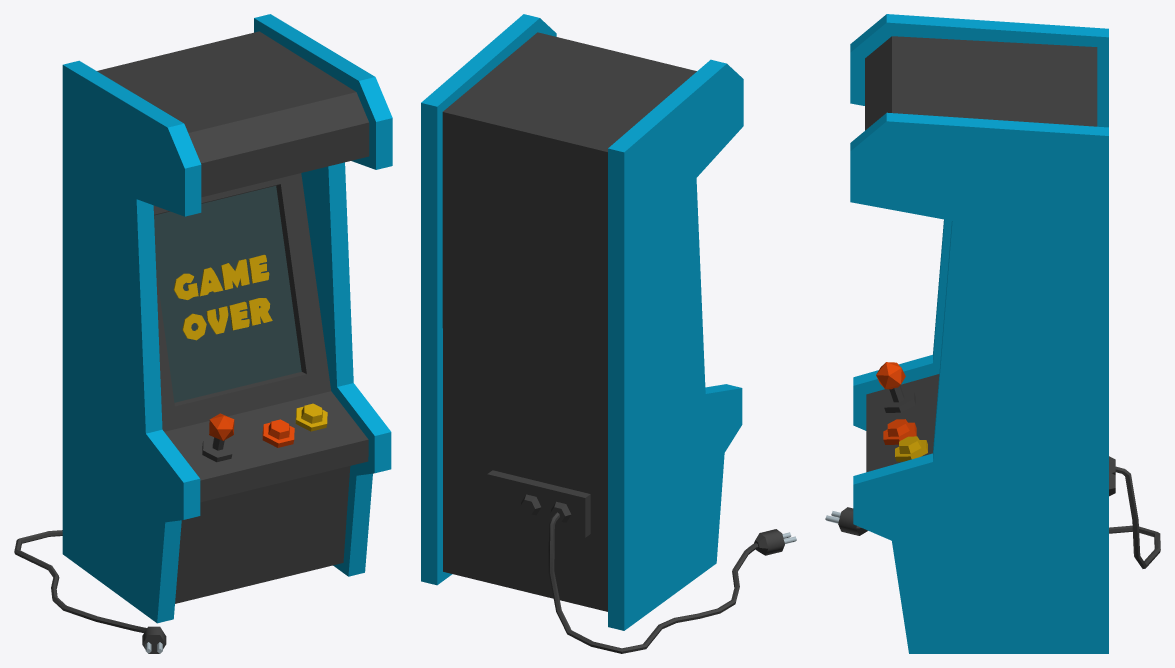
The model's file is cyberpunk.glb.
3 renders of one model, left to right at view 1: azimuth 30°, elevation 25°; view 2: azimuth 150°, elevation 25°; view 3: azimuth 270°, elevation 25°, orthographic. The views are drawn at different scales.
Visible parts, largest first — view 1: gamemachine_01, Text001, Line166, Cylinder449; view 2: gamemachine_01, Line166, Cylinder449; view 3: gamemachine_01, Line166, Cylinder449.
Boxes of the visible parts, left/top/right/bottom form: gamemachine_01: left=62, top=14, right=392, bottom=623; Text001: left=173, top=254, right=272, bottom=340; Line166: left=14, top=530, right=146, bottom=632; Cylinder449: left=142, top=626, right=166, bottom=653; gamemachine_01: left=421, top=14, right=743, bottom=630; Line166: left=548, top=512, right=758, bottom=653; Cylinder449: left=754, top=529, right=796, bottom=555; gamemachine_01: left=850, top=14, right=1115, bottom=653; Line166: left=1109, top=466, right=1160, bottom=568; Cylinder449: left=825, top=507, right=867, bottom=535.
Size of the model in its own units: 1.02 by 1.87 by 1.06.
